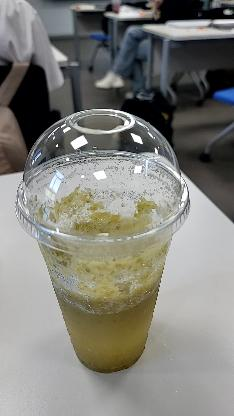Plastic Cup: (14, 107, 192, 372)
